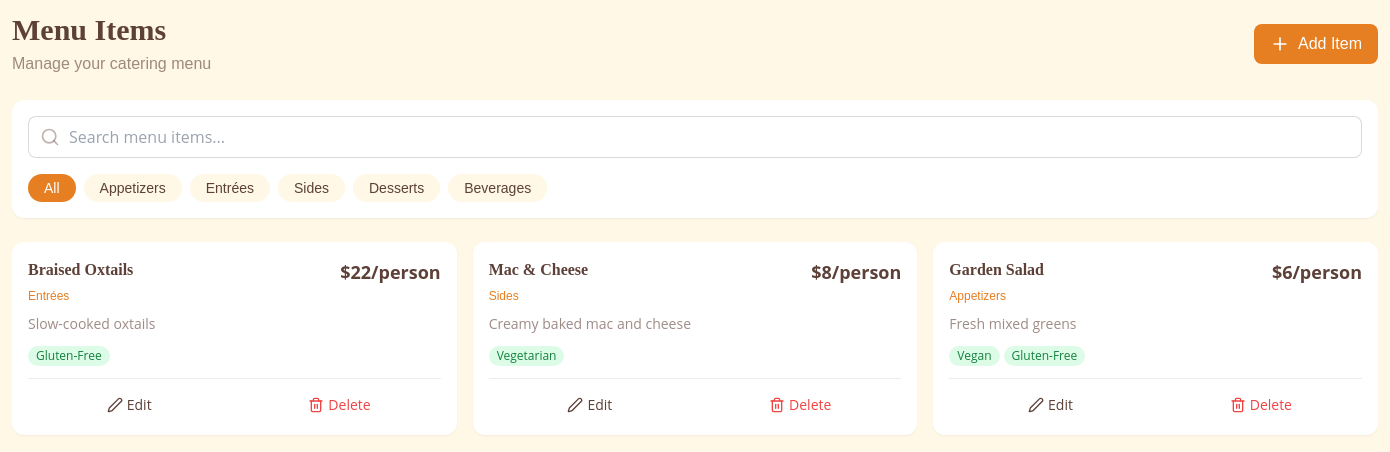
Test: Admin Menu Management Page › shows no-match message when search has no results
expect the heading "Braised Oxtails" is shown: met, box [28,258,133,282]
Type "zzzznonexistent" into the field with placeholder "Search menu items..." at (695, 137), box [28,116,1362,158]
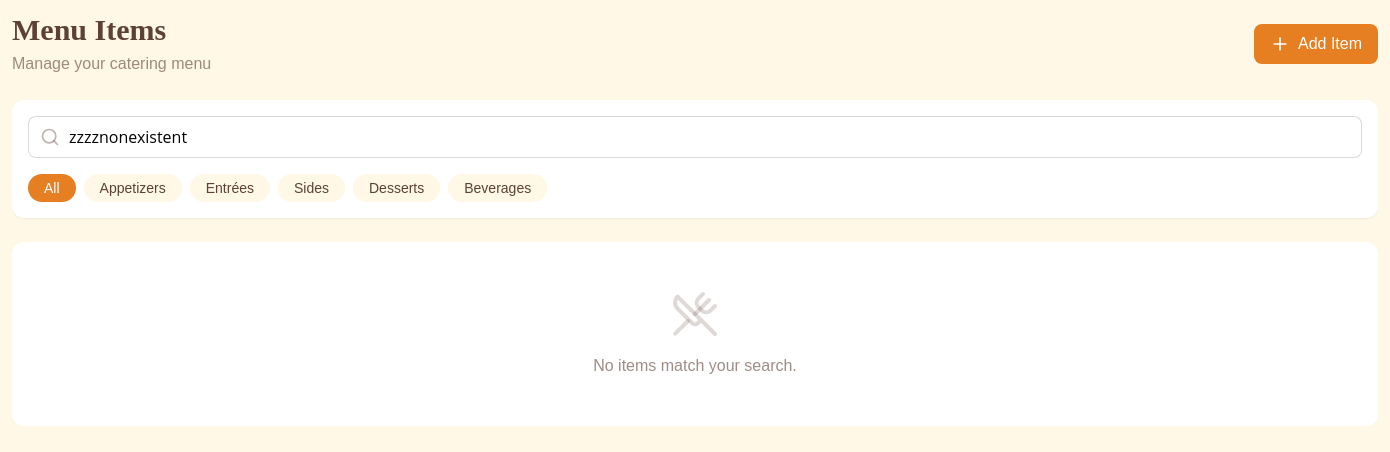
expect the text "No items match your search." is shown: met, box [593,357,797,374]
